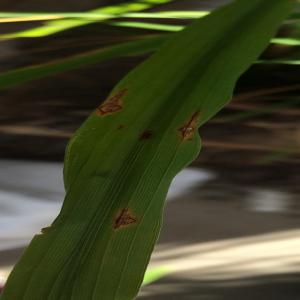Rice_Blast: (83, 80, 146, 127), (156, 98, 199, 147), (104, 199, 146, 242)
